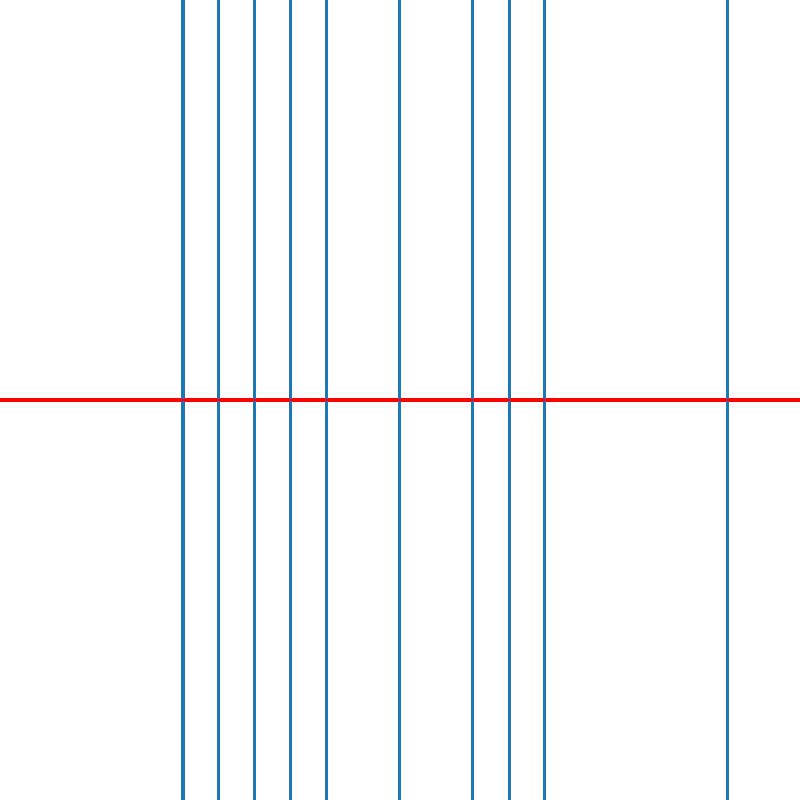root: (250, 396, 258, 404), (541, 396, 549, 404), (323, 396, 330, 404), (723, 396, 730, 404), (396, 396, 403, 404), (469, 396, 476, 404), (178, 396, 185, 404), (214, 396, 221, 404), (287, 396, 294, 404), (505, 396, 512, 404)
